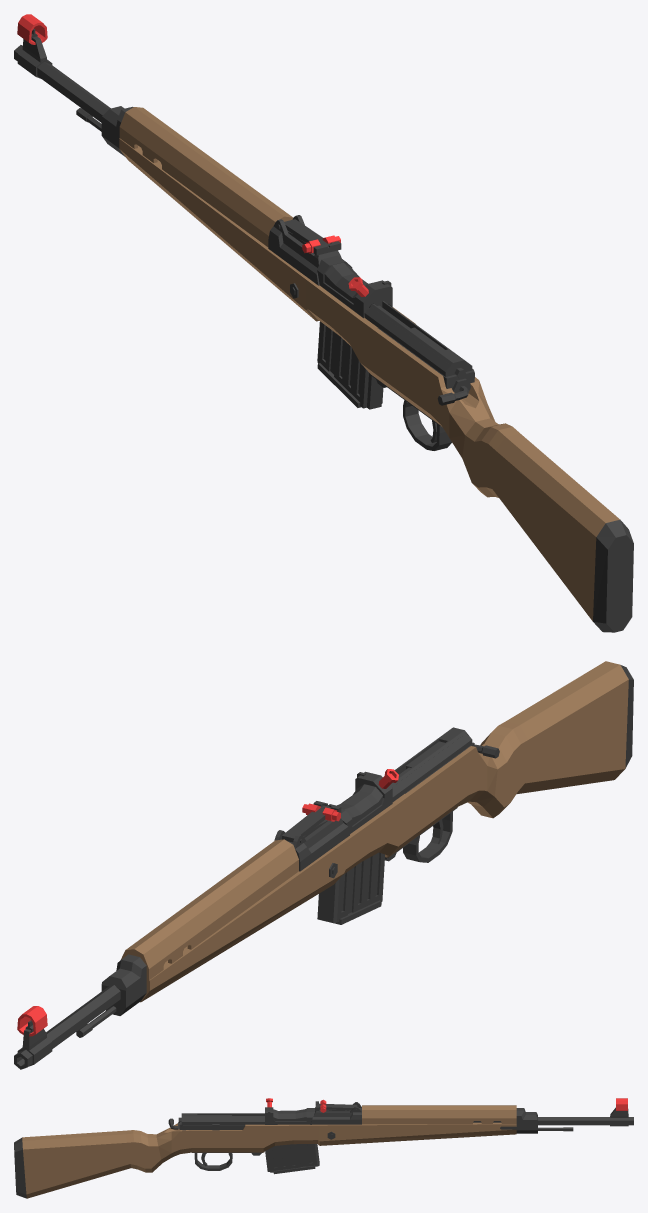
File: fusil_3.glb
3 views of the same model, one above another, from view 1: azimuth 30°, elevation 25°; view 2: azimuth 150°, elevation 25°; view 3: azimuth 270°, elevation 25° (orthographic). The views are drawn at different scales.
Parts seen in each view (by area): view 1: p9_accent, p8_accent, p35_paint, p24_paint, p17_paint, p10_paint, p0_paint, p19_paint, p29_paint, p20_paint; view 2: p9_accent, p8_accent, p17_paint, p24_paint, p0_paint, p6_paint, p10_paint, p20_paint, p19_paint, p29_paint, p11_paint, p3_del (+1 smaller); view 3: p9_accent, p8_accent, p17_paint, p24_paint, p10_paint, p0_paint, p35_paint, p6_paint, p19_paint, p20_paint, p28_paint, p29_paint (+2 smaller).
Boxes of the visible parts, x1,y1,x2,y2 form: p9_accent: (119,138,619,621); p8_accent: (119,107,293,246); p35_paint: (593,519,633,632); p24_paint: (364,301,472,376); p17_paint: (317,321,383,409); p10_paint: (268,215,341,285); p0_paint: (14,45,110,122); p19_paint: (317,255,392,318); p29_paint: (403,400,451,450); p20_paint: (324,262,367,303); p9_accent: (140,661,628,1002); p8_accent: (121,839,298,981); p17_paint: (317,852,384,923); p24_paint: (390,727,472,801); p0_paint: (14,985,120,1069); p6_paint: (101,954,146,1015); p10_paint: (274,818,349,871); p20_paint: (337,784,382,825); p19_paint: (341,771,392,833); p29_paint: (403,811,452,862); p11_paint: (282,801,341,842); p3_del: (17,1006,47,1036); p9_accent: (22,1122,516,1198); p8_accent: (362,1105,516,1124); p17_paint: (265,1144,319,1172); p24_paint: (181,1113,264,1124); p10_paint: (310,1102,361,1124); p0_paint: (473,1117,633,1125); p35_paint: (14,1137,26,1198); p6_paint: (516,1108,537,1133); p19_paint: (265,1107,315,1124); p20_paint: (273,1109,306,1121); p28_paint: (181,1125,245,1130); p29_paint: (194,1153,232,1170).
Bounding box in the file's own units: 0.054 × 0.1975 × 1.13.
